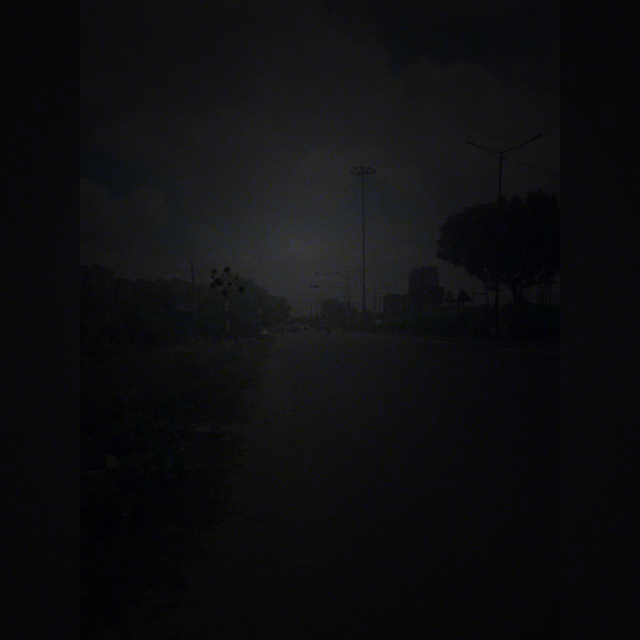Round_About: (210, 265, 245, 297)
